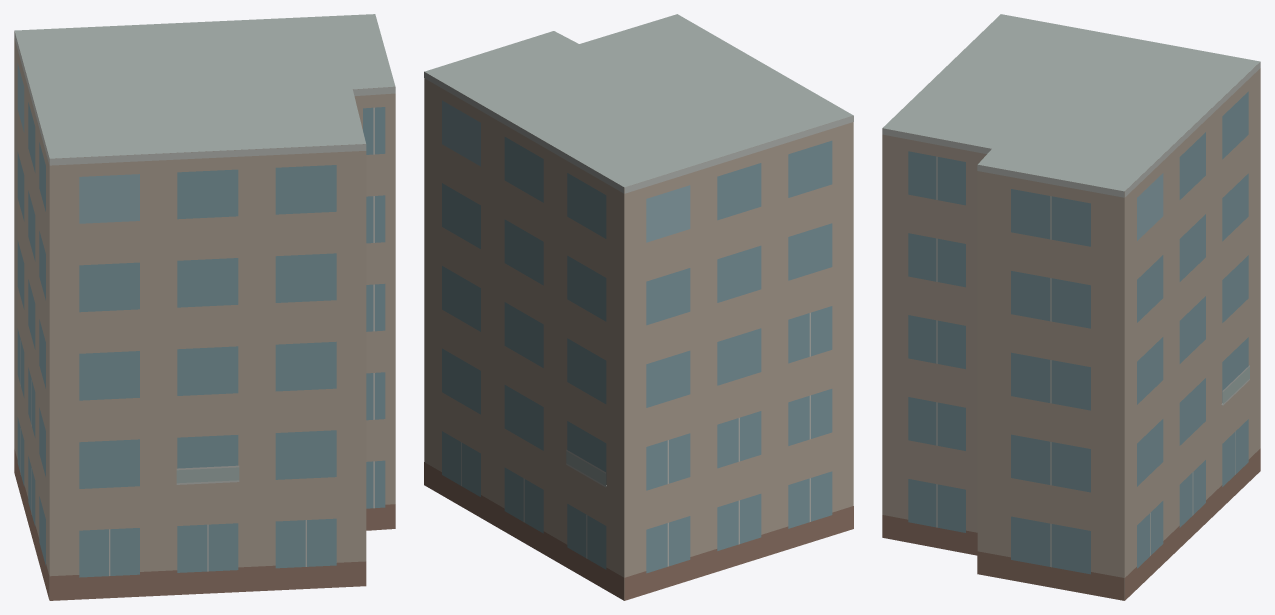
File: survey-upis-32530471.glb
3 views of the same model, side by side, from view 1: azimuth 30°, elevation 25°; view 2: azimuth 150°, elevation 25°; view 3: azimuth 270°, elevation 25° (orthographic). The views are drawn at different scales.
Parts seen in each view (by area): view 1: survey-upis-32530471.tmp; view 2: survey-upis-32530471.tmp; view 3: survey-upis-32530471.tmp.
Boxes of the visible parts, x1,y1,x2,y2 form: survey-upis-32530471.tmp: (14,14,395,600); survey-upis-32530471.tmp: (424,14,853,600); survey-upis-32530471.tmp: (882,14,1260,600).
Size of the model in its own units: 14.6 by 15.7 by 13.15.
